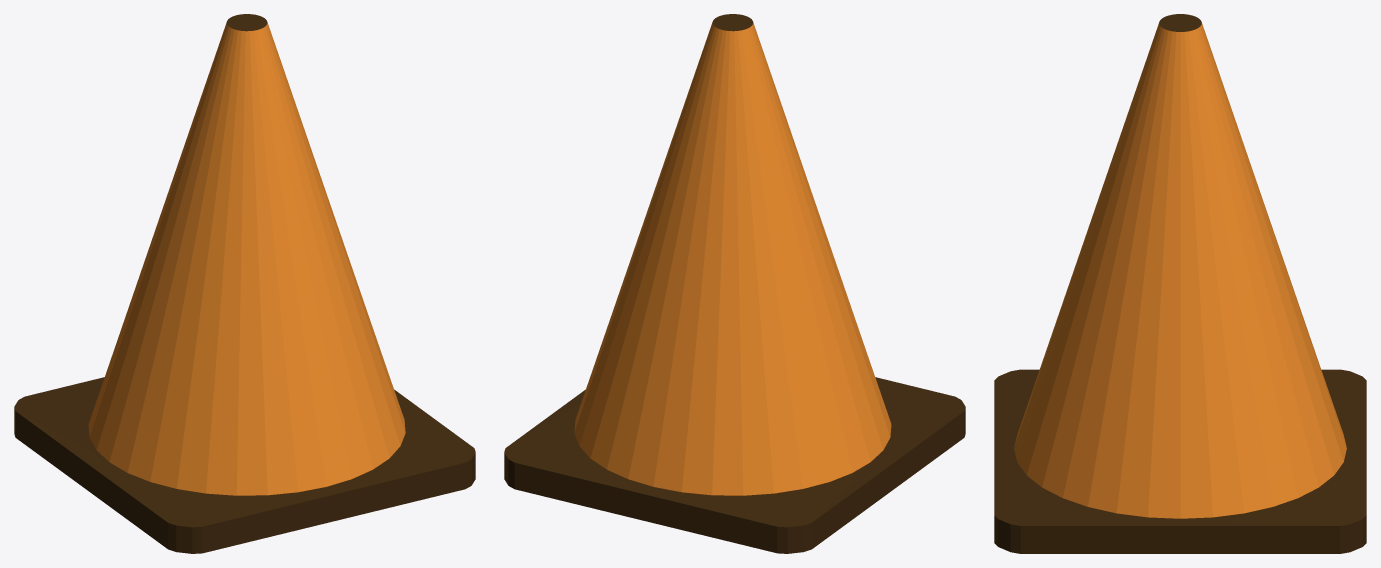
Rendered from traffic cone.fbx.
The picture shows the model from 3 angles, left to right: view 1: azimuth 30°, elevation 25°; view 2: azimuth 150°, elevation 25°; view 3: azimuth 270°, elevation 25°; orthographic projection. The views are drawn at different scales.
Visible parts, largest first — view 1: Cone; view 2: Cone; view 3: Cone.
Boxes of the visible parts, x1=… form: Cone: x1=14, y1=14, x2=475, y2=553; Cone: x1=504, y1=14, x2=965, y2=553; Cone: x1=994, y1=14, x2=1366, y2=553.
Bounding box in the file's own units: 222 × 300 × 224.
